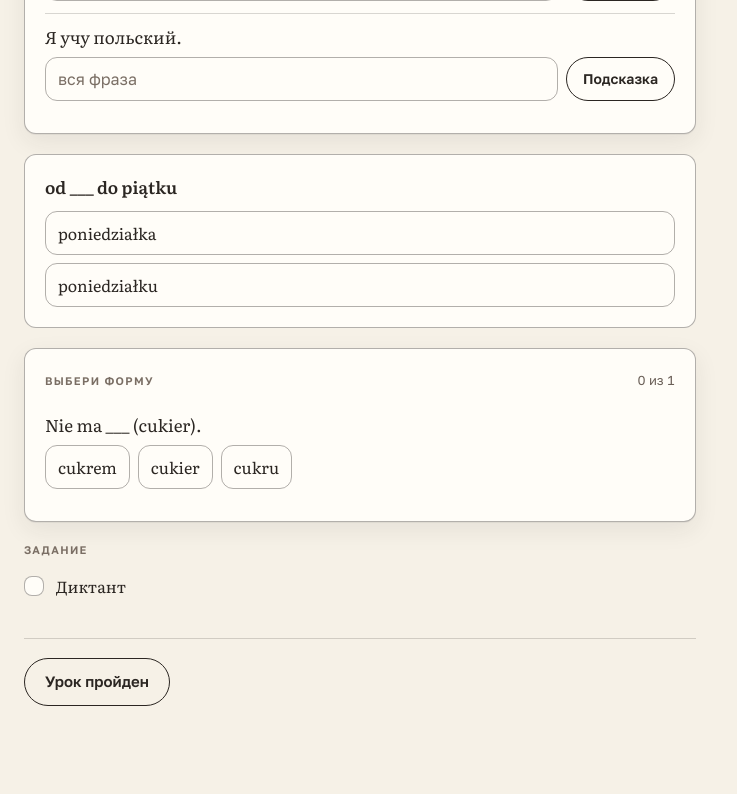
CourseItemPage hints and choice › a wrong first pick shows the note and makes one card; the right pick fills the gap
(page scrolled)
Click the button "cukier": {"x": 175, "y": 467} x1=138 y1=445 x2=213 y2=489
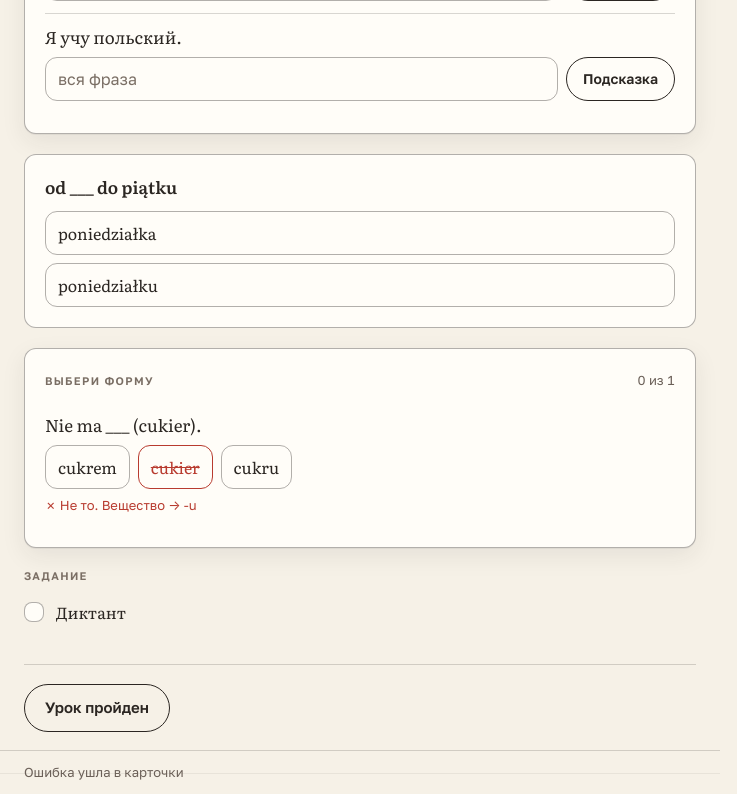
Check: the text "✗ Не то. Вещество → -u" is shown, box x1=45 y1=497 x2=197 y2=513
Click the button "cukrem": {"x": 87, "y": 467} x1=45 y1=445 x2=130 y2=489
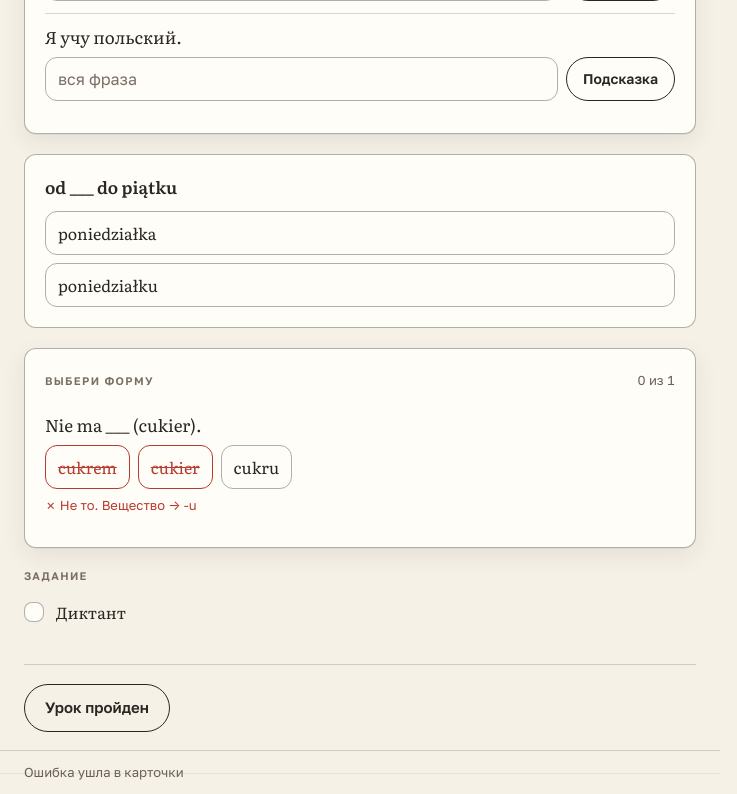
Click the button "cukru": {"x": 256, "y": 467} x1=221 y1=445 x2=292 y2=489
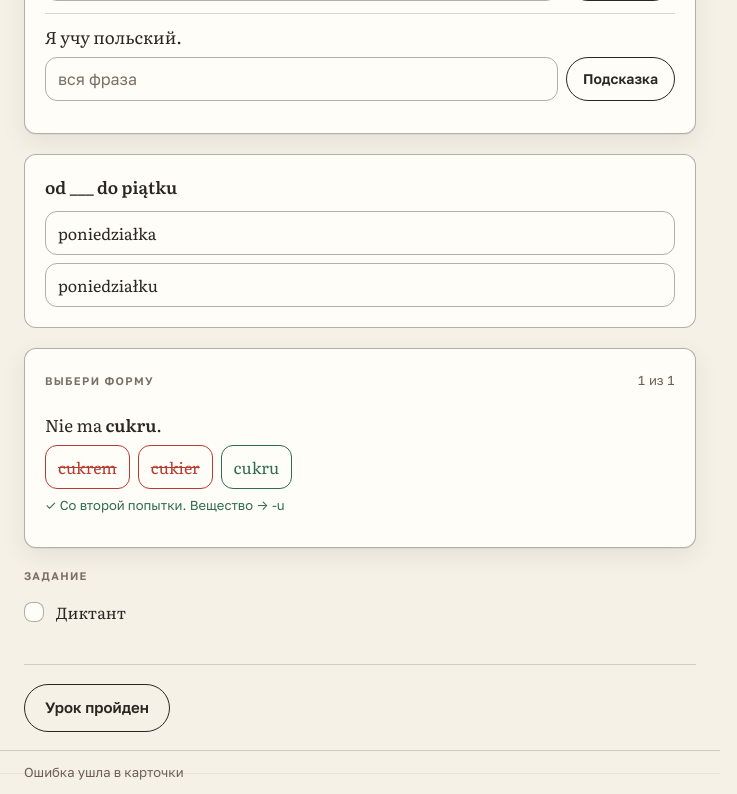
Check: the text "(cukier)" is not shown
Check: the text "cukru" is shown, box x1=106 y1=412 x2=156 y2=437
Check: the text with test id "choice-score" reads "1 из 1", box x1=638 y1=372 x2=675 y2=388
